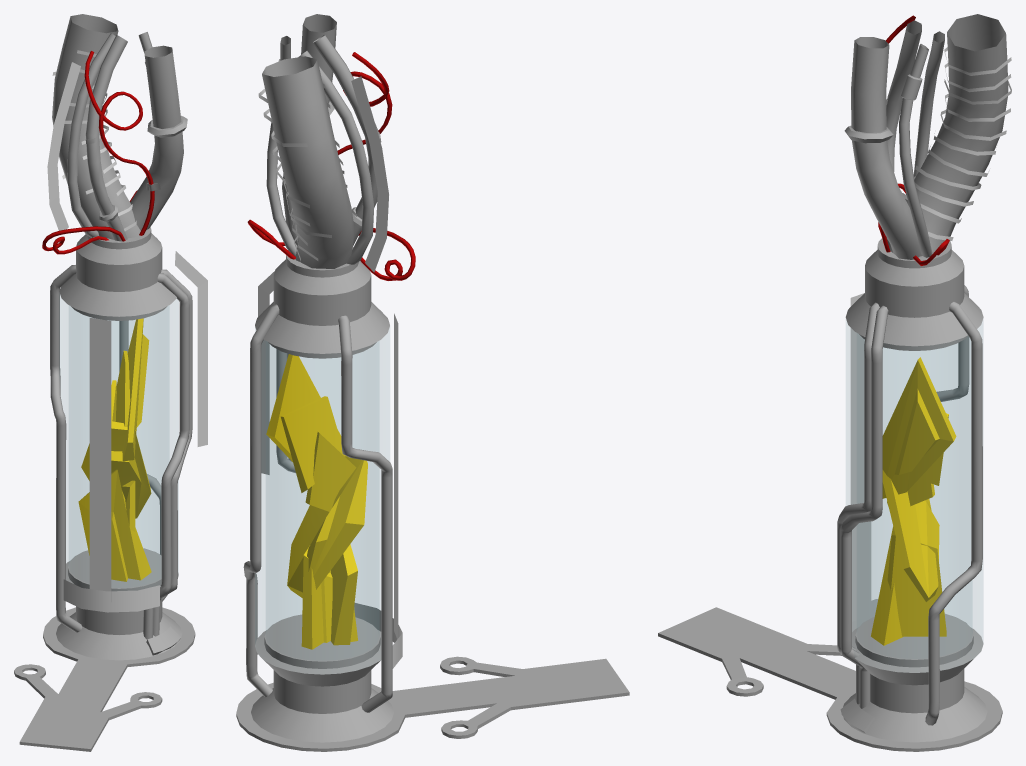
File: SM_incubateur_Angela.fbx
3 renders of one model, left to right at view 1: azimuth 30°, elevation 25°; view 2: azimuth 150°, elevation 25°; view 3: azimuth 270°, elevation 25°, orthographic. The views are drawn at different scales.
Parts seen in each view (by area): view 1: verre_exterieur, base, verre_interieur, pDisc3, cristal, line_3, tube_2, tube_1, cable_7, cable_5, tube_3, line_2 (+10 smaller); view 2: base, cristal, verre_exterieur, verre_interieur, pDisc3, tube_2, cable_5, cable_6, tube_4, line_1, tube_3, tube_1 (+7 smaller); view 3: base, verre_exterieur, cristal, verre_interieur, pDisc3, tube_2, tube_1, cable_6, cable_4, line_3, line_tube, cable_7 (+5 smaller).
Boxes of the visible parts, x1,y1,x2,y2 form: verre_exterieur: (60,296,178,572); base: (56,227,182,660); verre_interieur: (69,306,168,562); pDisc3: (14,607,195,751); cristal: (78,318,151,581); line_3: (89,318,111,601); tube_2: (52,14,140,239); tube_1: (130,45,183,230); cable_7: (143,273,189,639); cable_5: (50,265,82,632); tube_3: (85,34,127,241); line_2: (175,251,207,446); base: (251,247,393,742); cristal: (266,354,367,649); verre_exterieur: (255,329,389,643); verre_interieur: (266,342,378,632); pDisc3: (236,656,629,751); tube_2: (262,56,354,268); cable_5: (338,315,392,712); cable_6: (243,304,279,697); tube_4: (298,50,374,264); line_1: (351,76,388,272); tube_3: (313,35,379,245); tube_1: (282,14,336,244); base: (843,238,987,742); verre_exterieur: (846,321,982,639); cristal: (871,357,956,645); verre_interieur: (857,334,971,629); pDisc3: (658,607,1002,751); tube_2: (887,14,1008,258); tube_1: (851,37,922,259); cable_6: (925,302,982,725); cable_4: (840,305,888,708); line_3: (850,293,871,621); line_tube: (902,47,1011,240); cable_7: (837,302,879,704).
Bounding box in the file's own units: 267 × 594 × 275.
